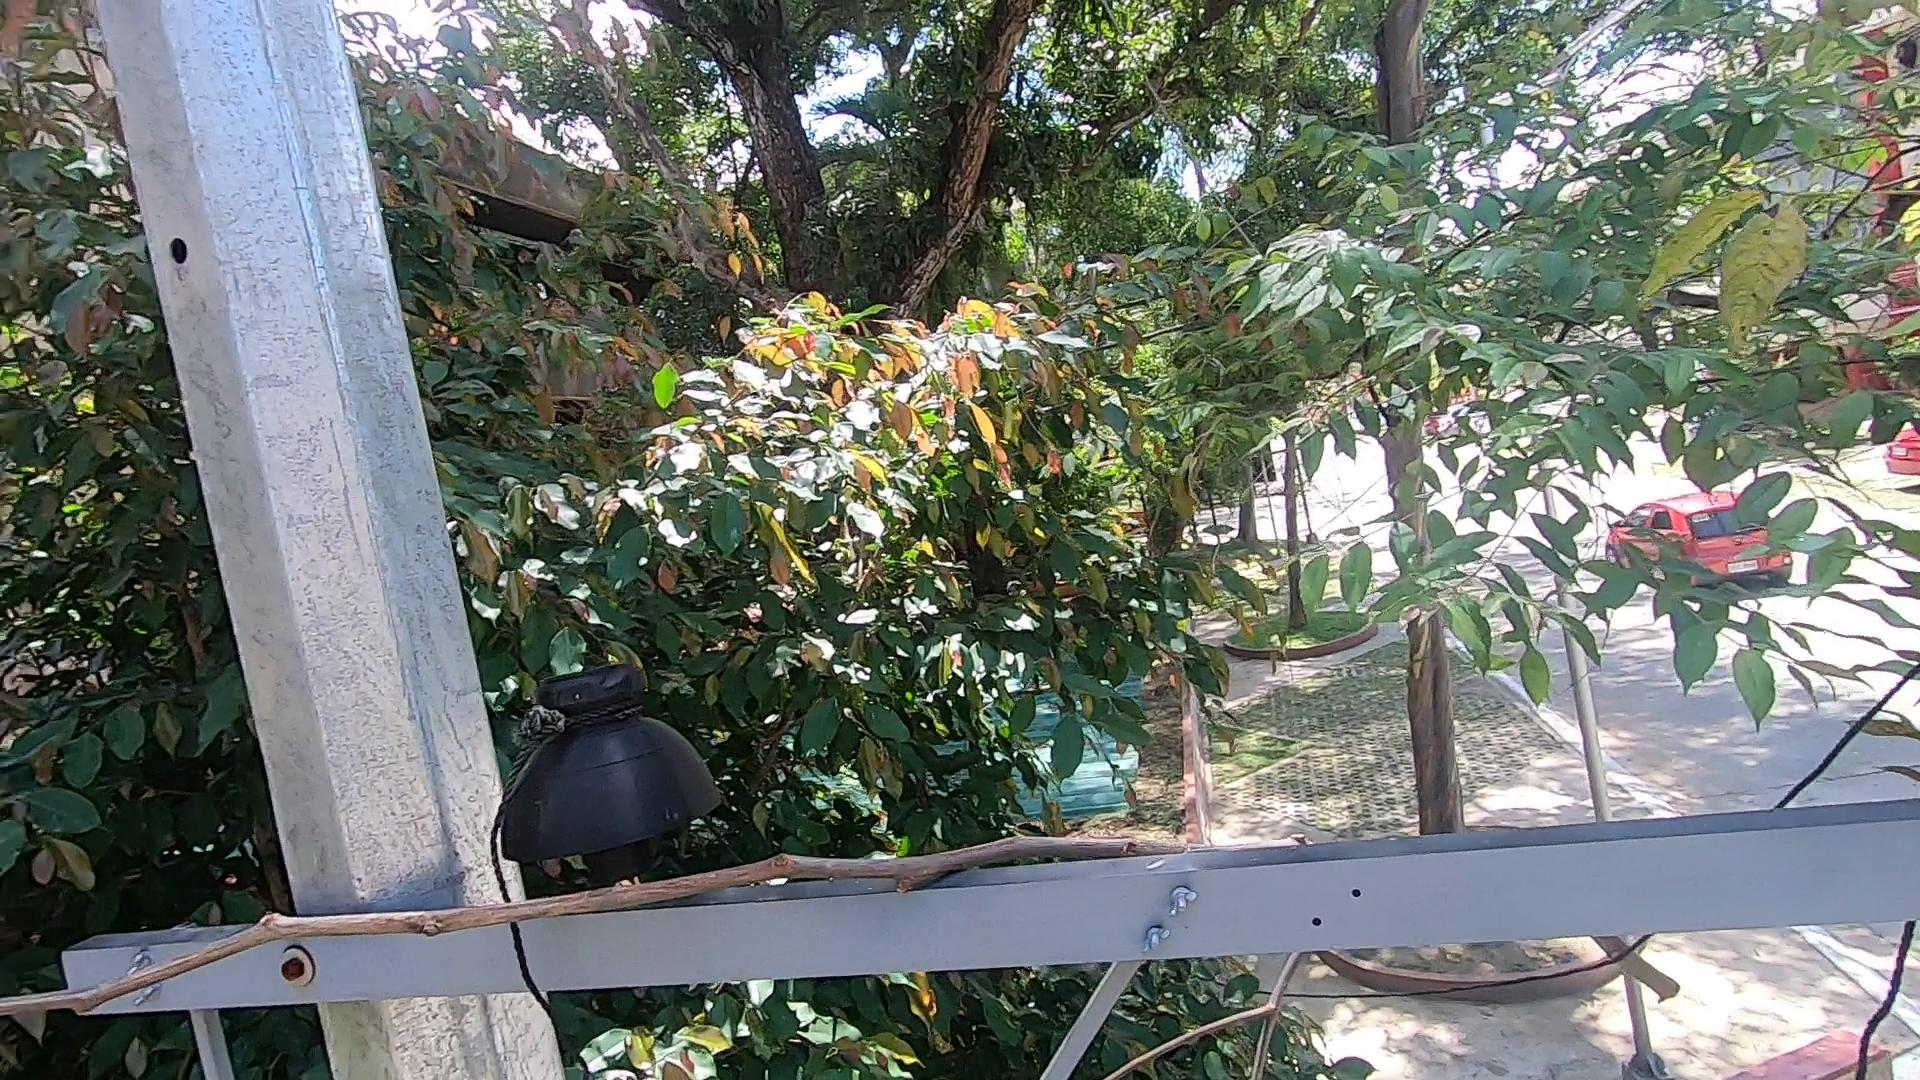tree branch: (1, 827, 1197, 1027), (1095, 957, 1321, 1080), (1596, 938, 1693, 1017)
